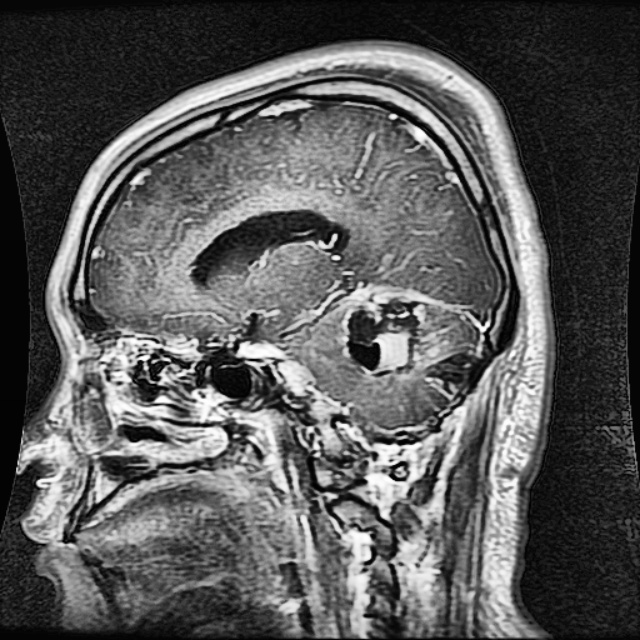Meningioma: (348, 283, 427, 378)
